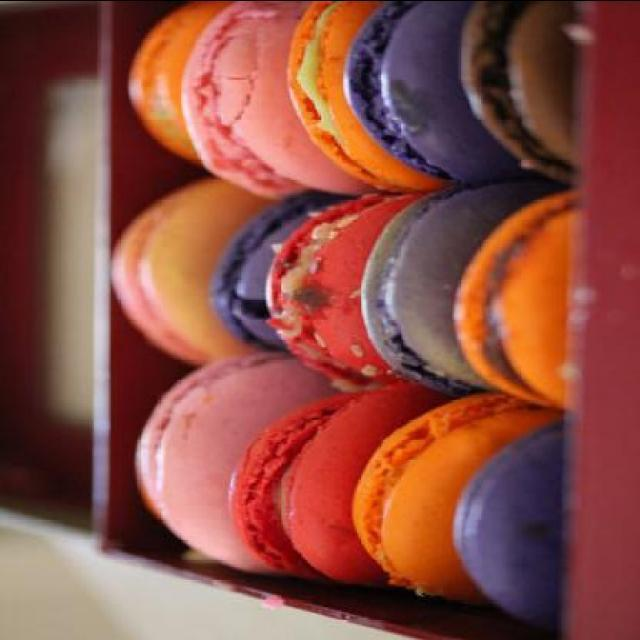Macaron: (107, 2, 591, 616)
